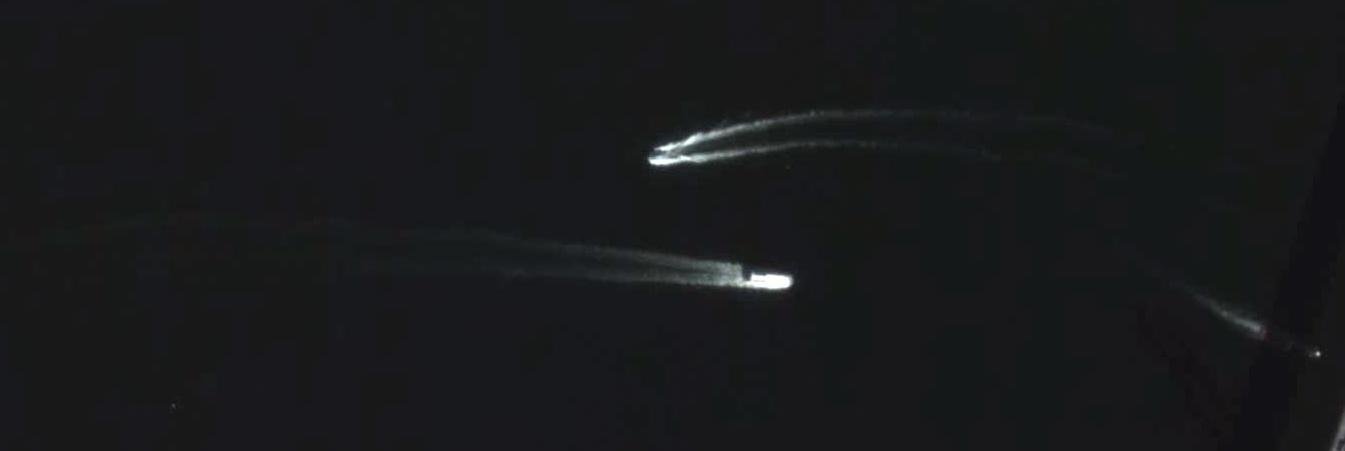person: (750, 273, 793, 290), (1289, 343, 1323, 359), (647, 151, 668, 158)
